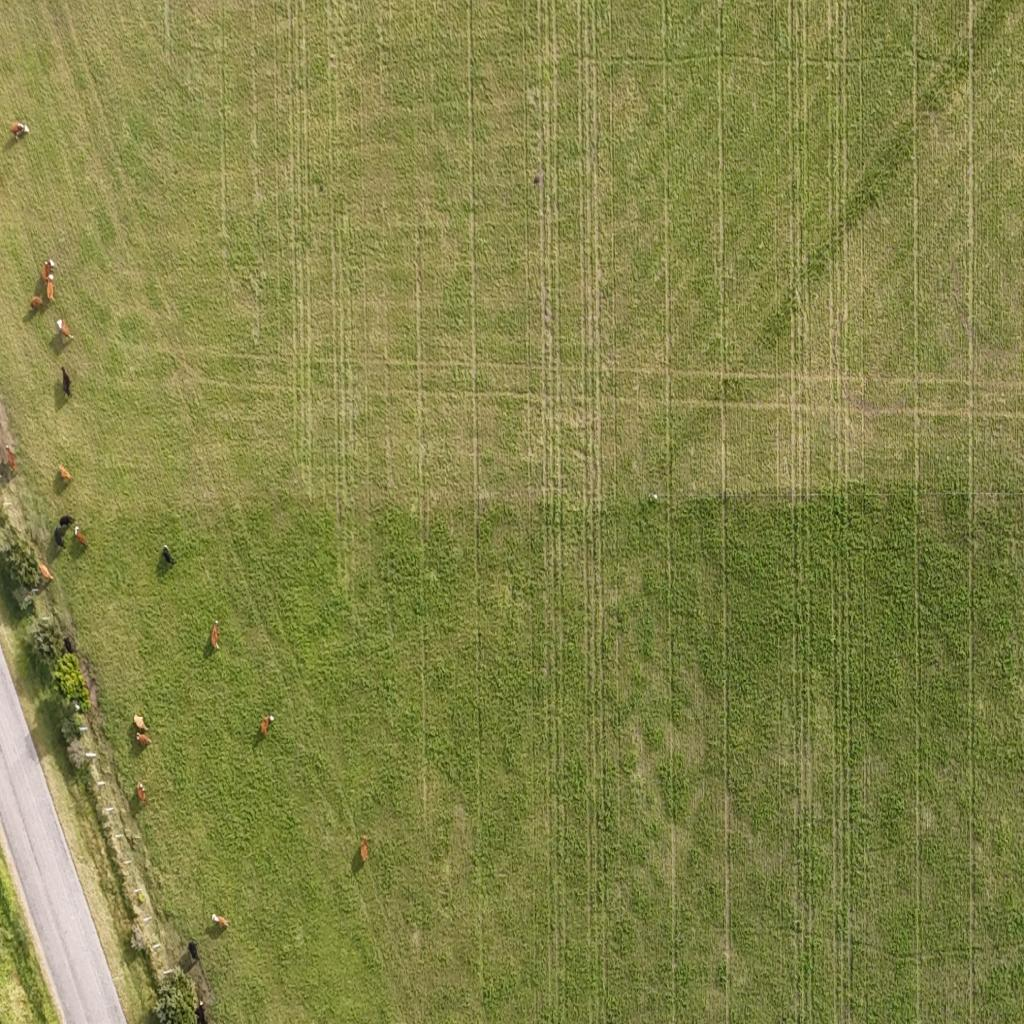cow: (8, 122, 30, 148), (57, 316, 74, 342), (162, 542, 178, 566), (133, 712, 149, 734), (38, 562, 54, 584), (258, 714, 274, 736), (61, 365, 72, 397), (54, 525, 68, 549), (43, 258, 56, 282), (74, 526, 88, 548), (210, 620, 220, 650), (195, 1000, 207, 1024), (212, 914, 229, 930), (6, 446, 17, 470), (58, 465, 72, 482), (30, 295, 44, 312), (136, 732, 152, 746), (136, 782, 146, 804), (188, 940, 198, 962), (360, 837, 368, 863), (46, 278, 54, 302), (59, 515, 73, 528), (74, 525, 80, 537)
